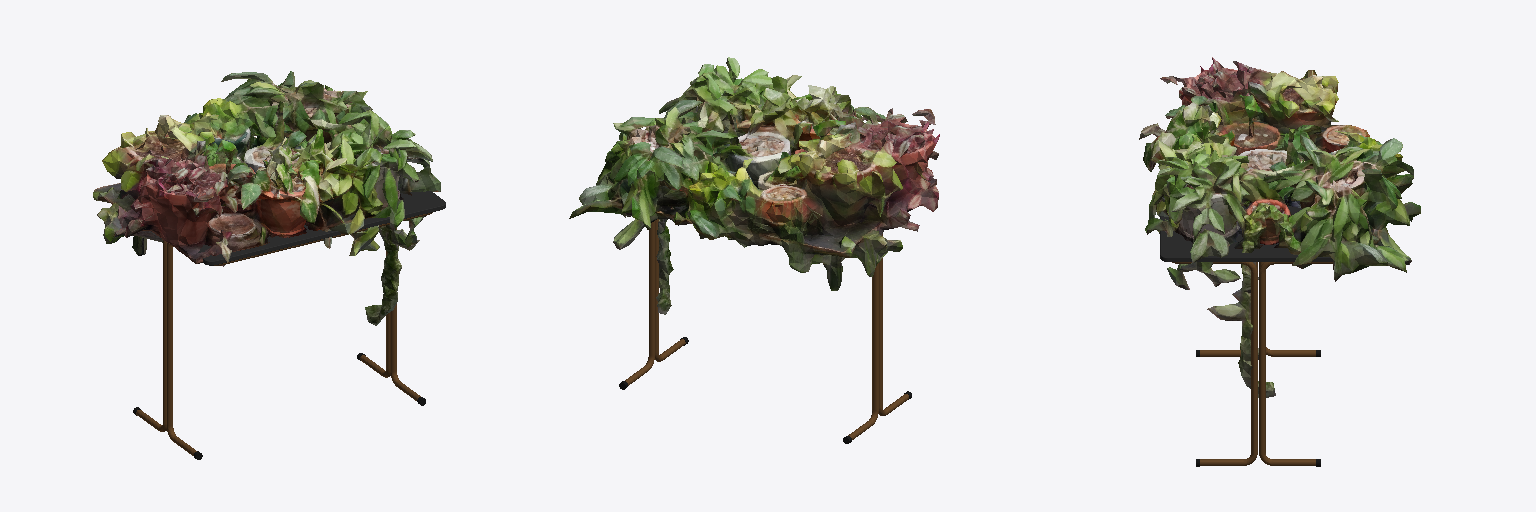
3 views of the same model, side by side, from view 1: azimuth 30°, elevation 25°; view 2: azimuth 150°, elevation 25°; view 3: azimuth 270°, elevation 25° (orthographic).
Visible parts, largest first — view 1: Mesh4 skp355B1 Model, Mesh2 Component_2_1 Component_6_1 SCHOOL_DESK_A1 Model, Mesh1 Group1 Component_6_1 SCHOOL_DESK_A1 Model, Mesh3 Component_2_2 Component_6_1 SCHOOL_DESK_A1 Model; view 2: Mesh4 skp355B1 Model, Mesh3 Component_2_2 Component_6_1 SCHOOL_DESK_A1 Model, Mesh2 Component_2_1 Component_6_1 SCHOOL_DESK_A1 Model; view 3: Mesh4 skp355B1 Model, Mesh3 Component_2_2 Component_6_1 SCHOOL_DESK_A1 Model, Mesh2 Component_2_1 Component_6_1 SCHOOL_DESK_A1 Model, Mesh1 Group1 Component_6_1 SCHOOL_DESK_A1 Model.
Boxes of the visible parts, x1,y1,x2,y2 form: Mesh4 skp355B1 Model: [93, 71, 440, 325]; Mesh2 Component_2_1 Component_6_1 SCHOOL_DESK_A1 Model: [167, 212, 432, 459]; Mesh1 Group1 Component_6_1 SCHOOL_DESK_A1 Model: [198, 175, 445, 265]; Mesh3 Component_2_2 Component_6_1 SCHOOL_DESK_A1 Model: [133, 239, 390, 431]; Mesh4 skp355B1 Model: [569, 57, 939, 314]; Mesh3 Component_2_2 Component_6_1 SCHOOL_DESK_A1 Model: [619, 221, 878, 443]; Mesh2 Component_2_1 Component_6_1 SCHOOL_DESK_A1 Model: [655, 219, 911, 415]; Mesh4 skp355B1 Model: [1139, 57, 1420, 397]; Mesh3 Component_2_2 Component_6_1 SCHOOL_DESK_A1 Model: [1259, 262, 1332, 466]; Mesh2 Component_2_1 Component_6_1 SCHOOL_DESK_A1 Model: [1172, 262, 1257, 466]; Mesh1 Group1 Component_6_1 SCHOOL_DESK_A1 Model: [1160, 206, 1332, 261].
Size of the model in its own units: 1.18 by 1.13 by 0.9637.
4 materials, 1 textured.